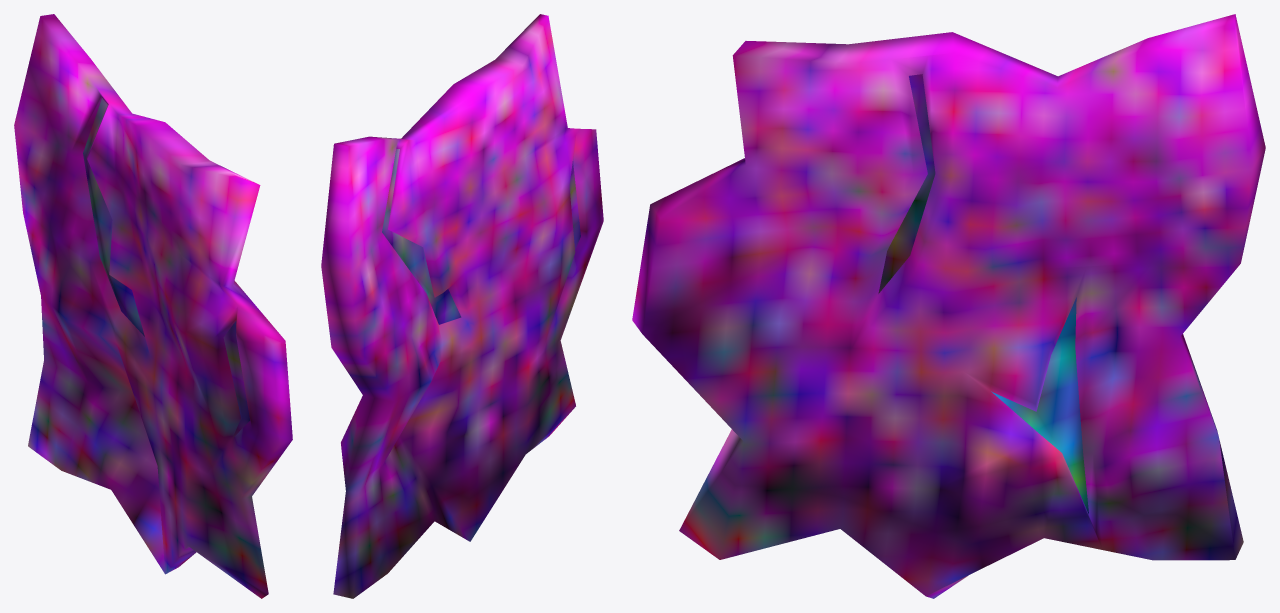
The picture shows the model from 3 angles, left to right: view 1: azimuth 30°, elevation 25°; view 2: azimuth 150°, elevation 25°; view 3: azimuth 270°, elevation 25°; orthographic projection. The views are drawn at different scales.
Visible parts, largest first — view 1: MP3; view 2: MP3; view 3: MP3.
Boxes of the visible parts, box(x1,y1,x2,y2) form: MP3: box(14, 14, 292, 598); MP3: box(321, 14, 603, 598); MP3: box(632, 14, 1265, 598).
Size of the model in its own units: 0.5778 by 3.1 by 3.05.
